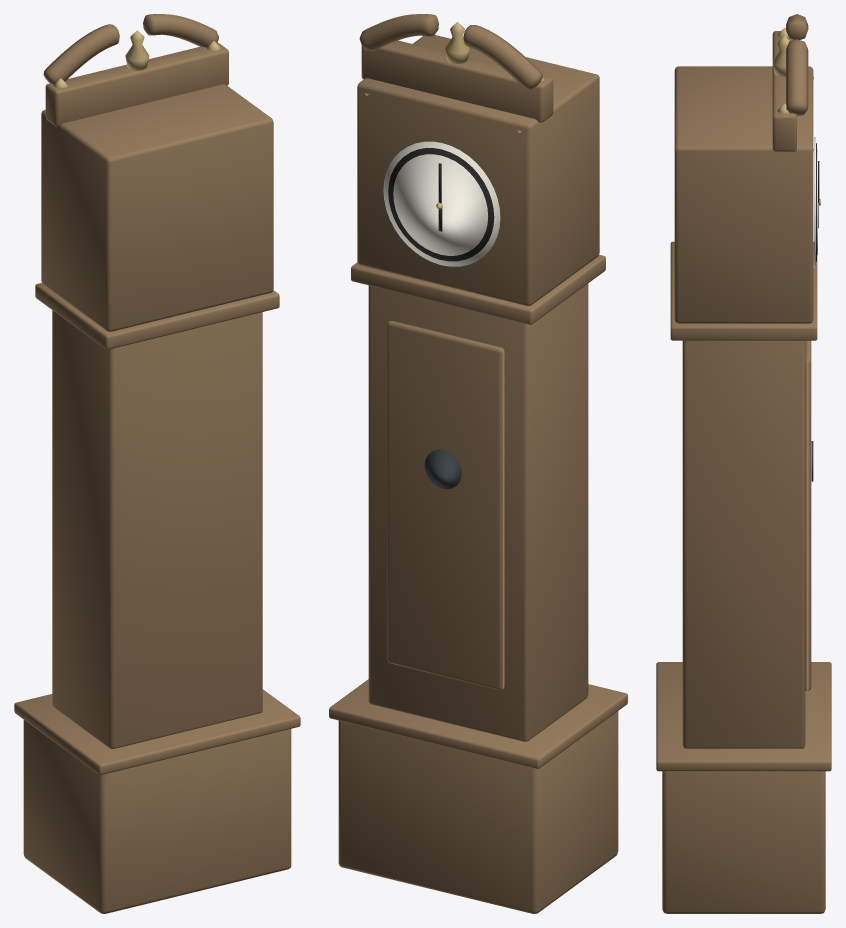
File: ss_station_clock.glb
3 renders of one model, left to right at view 1: azimuth 30°, elevation 25°; view 2: azimuth 150°, elevation 25°; view 3: azimuth 270°, elevation 25°, orthographic. The views are drawn at different scales.
Visible parts, largest first — view 1: ss_station_clock; view 2: ss_station_clock; view 3: ss_station_clock.
Part boxes in pixels (left/top/right/bottom): ss_station_clock: left=14, top=14, right=300, bottom=913; ss_station_clock: left=329, top=14, right=627, bottom=913; ss_station_clock: left=656, top=14, right=831, bottom=913.
Bounding box in the file's own units: 0.58 × 2.27 × 0.43.
